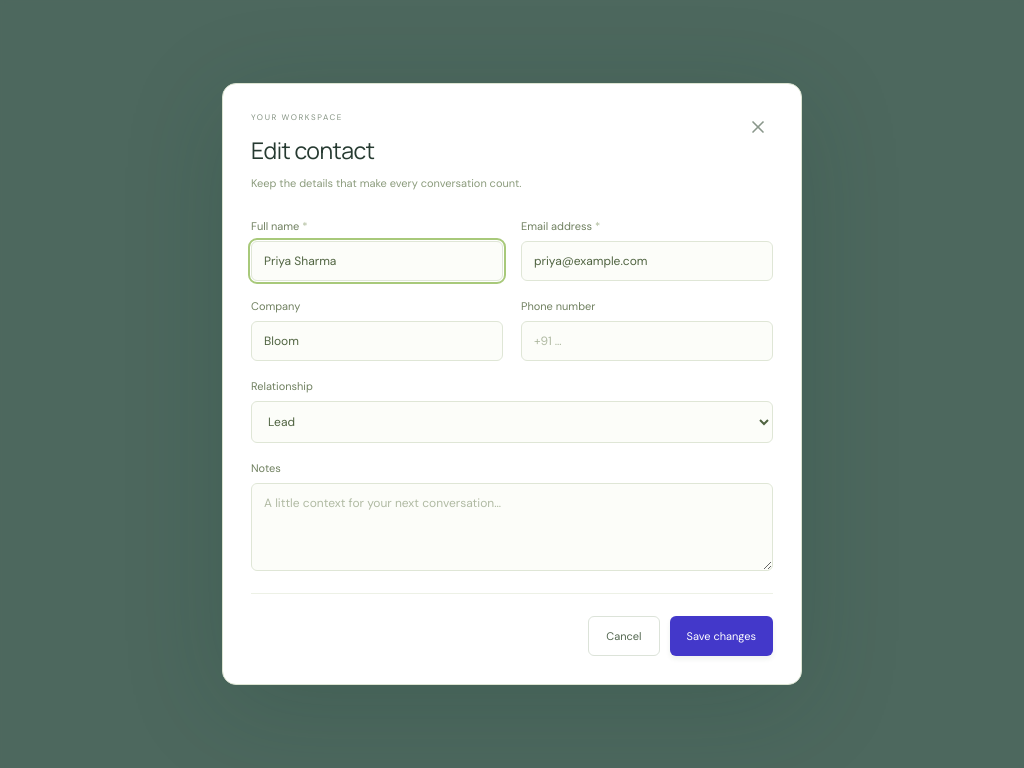
contact workflows › keeps input and shows an actionable duplicate-email error
This screenshot has width=1024, height=768.
What coordinates should you click on to do the following:
click the button "Save changes"
I would click on:
 (721, 636)
Its box is [670, 616, 773, 656].
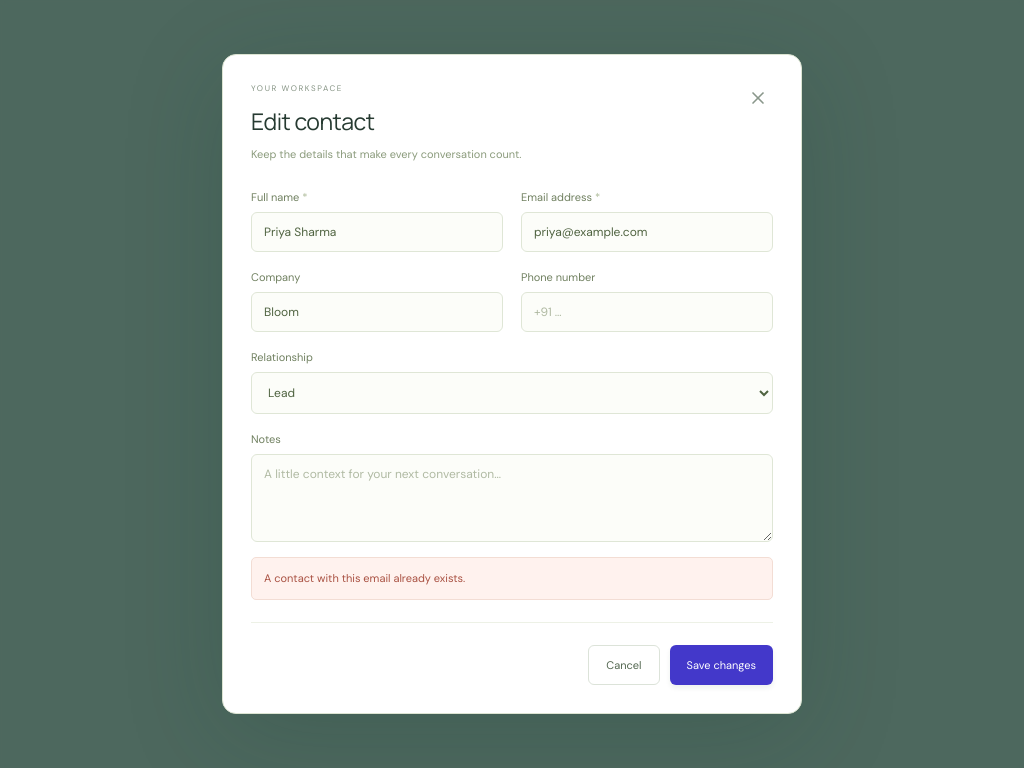
Expected: the field labelled "Full name *" holds "Priya Sharma", [251, 212, 503, 252]
Now the message shows "already exists", box [264, 571, 465, 585]
